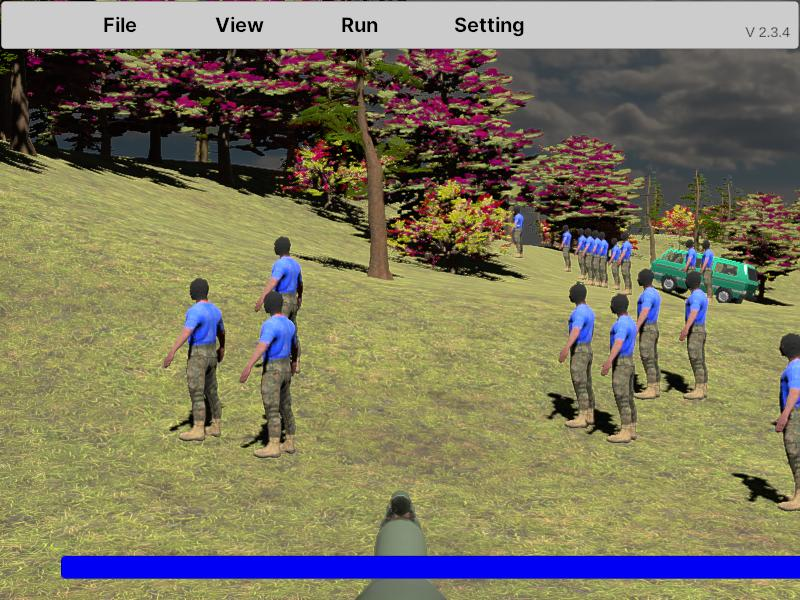Human: (239, 289, 300, 458), (163, 277, 225, 441), (256, 235, 304, 381), (600, 293, 639, 442), (558, 282, 596, 431), (774, 334, 800, 513), (678, 272, 708, 401), (632, 270, 662, 398)
car: (648, 247, 759, 305)
